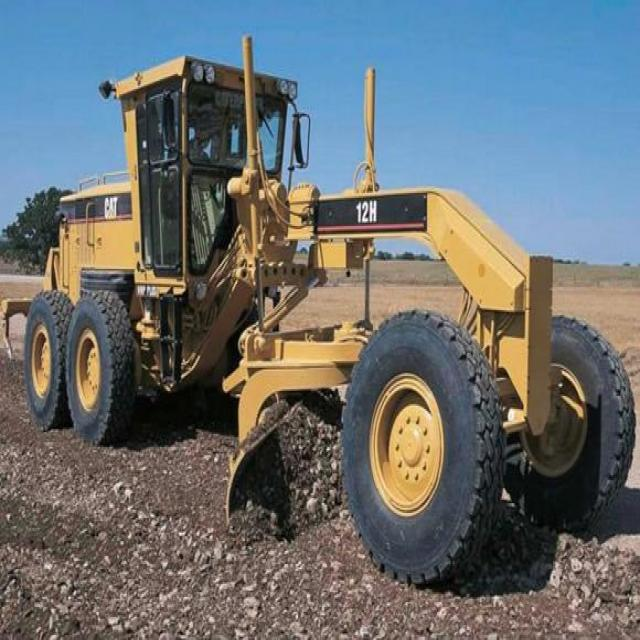Grader: (12, 33, 639, 589)
